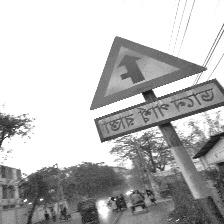Side-road-right: (90, 35, 222, 144)
